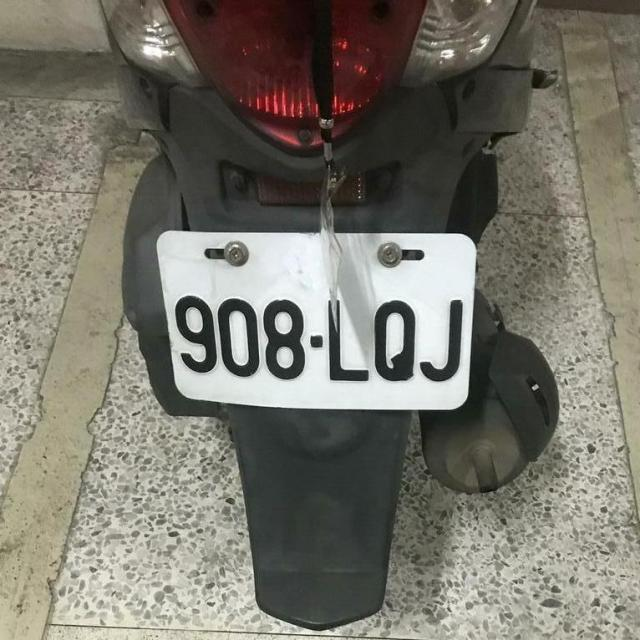W: (146, 222, 486, 413)
